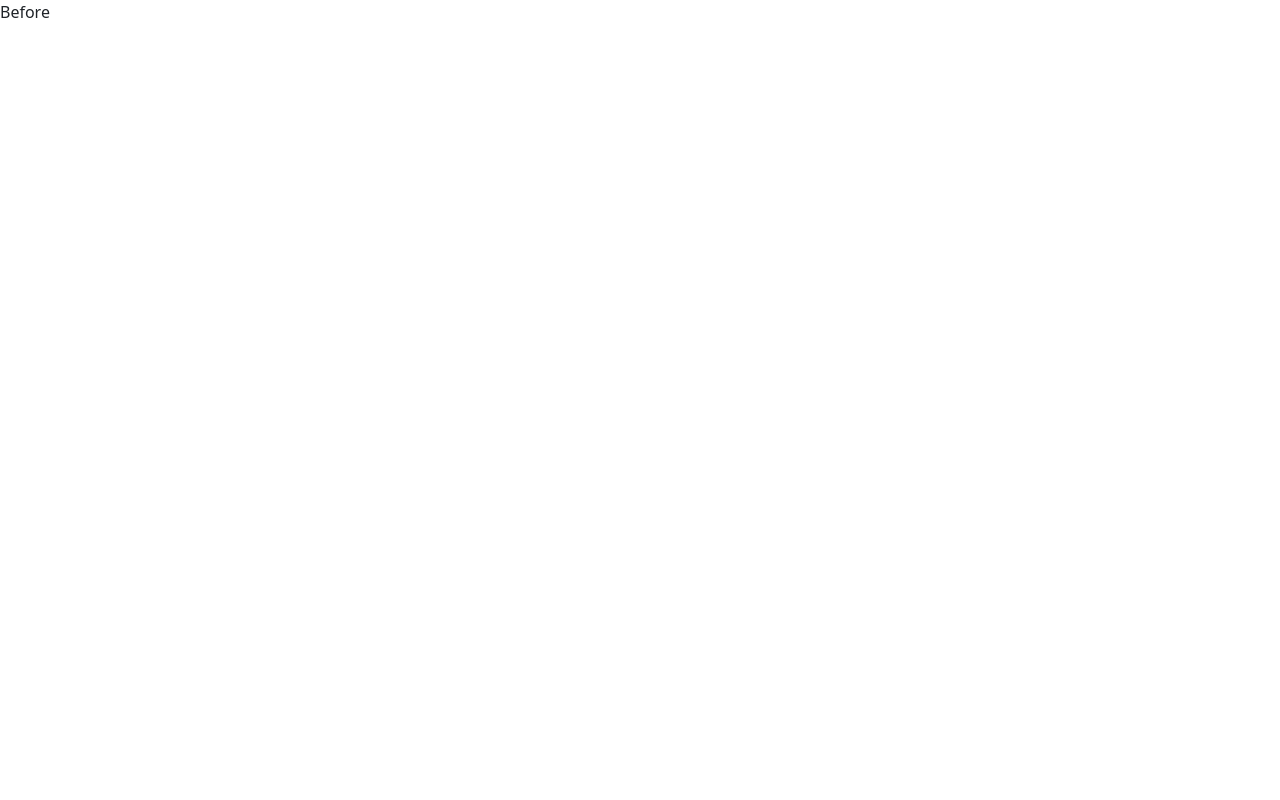
Test: CommandPalette › matches labels, not the ids behind them
Type keys "{Control>}k{/Control}"
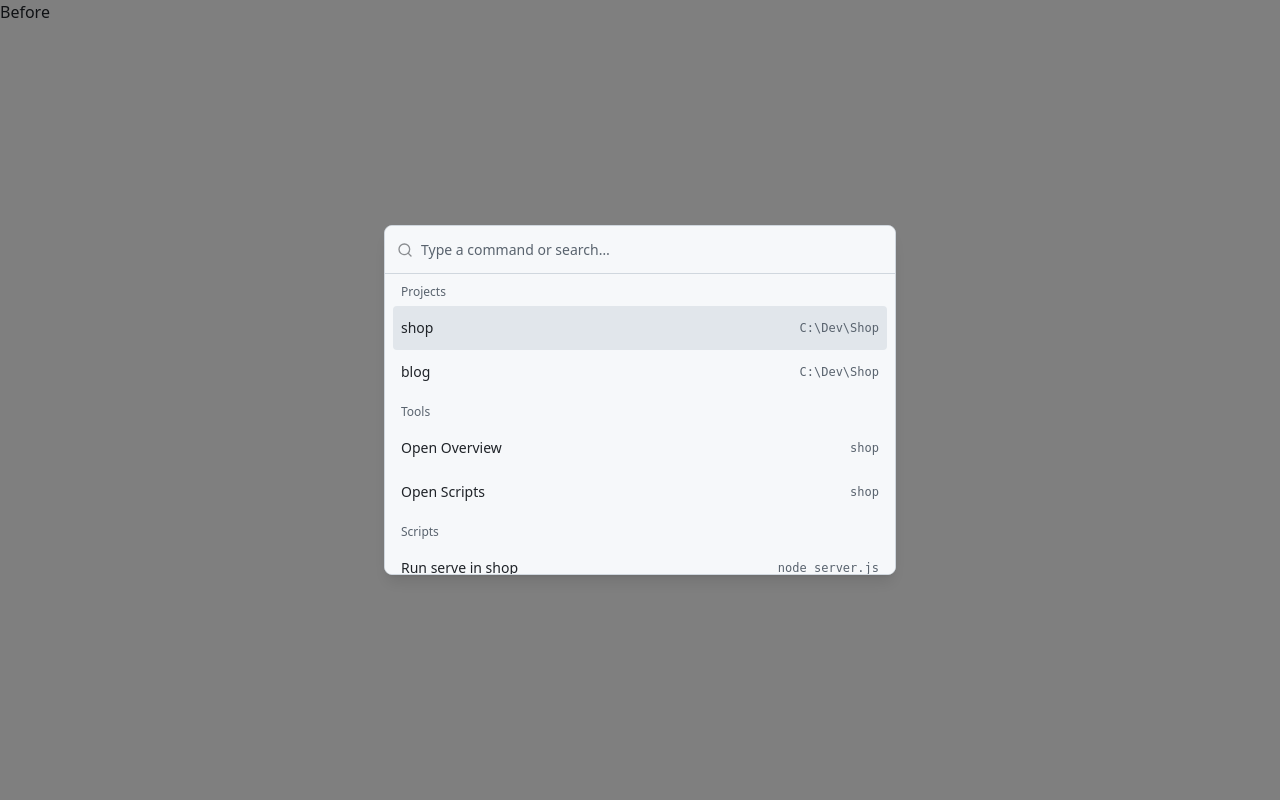
Type "dev" into the dropdown named "Command palette". click: coordinates (652, 250)
box: [421,226,883,274]
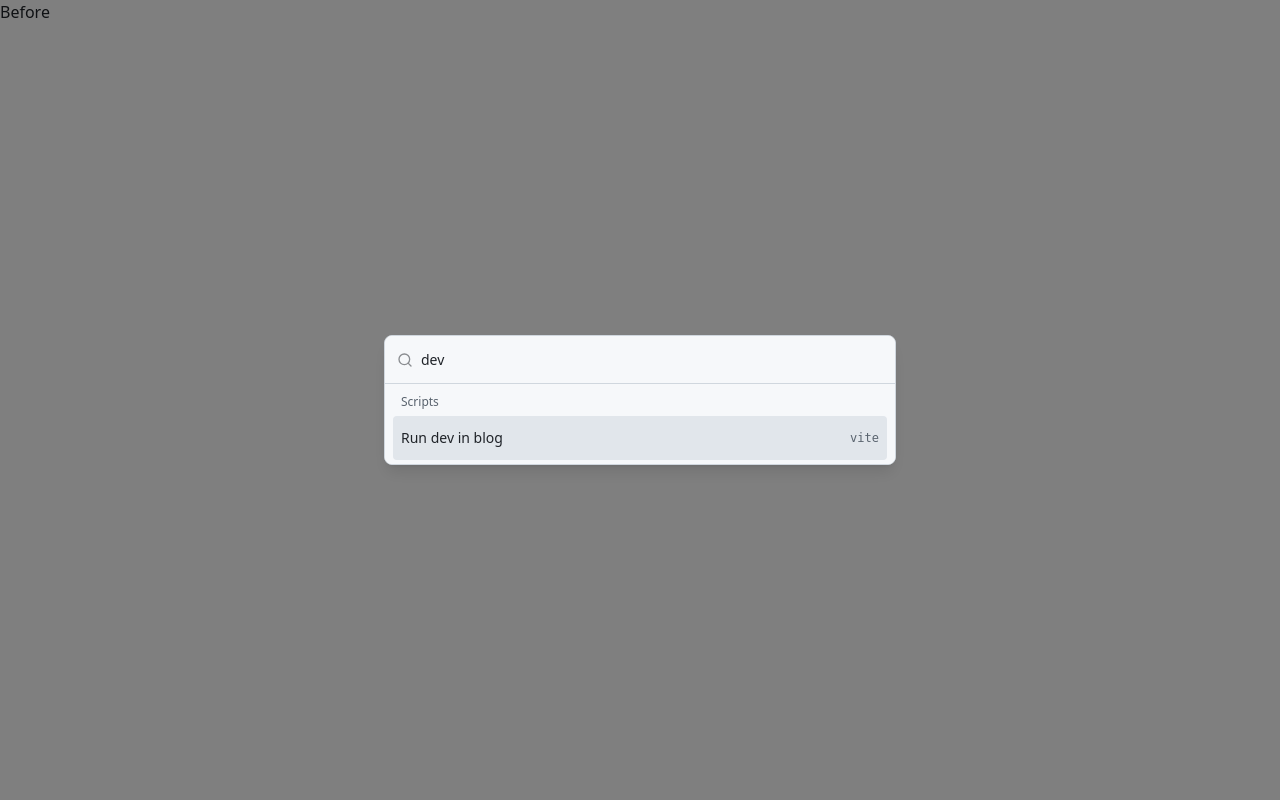
Now the options read "Run dev in blogvite", in this order, box [393,416,887,460]
